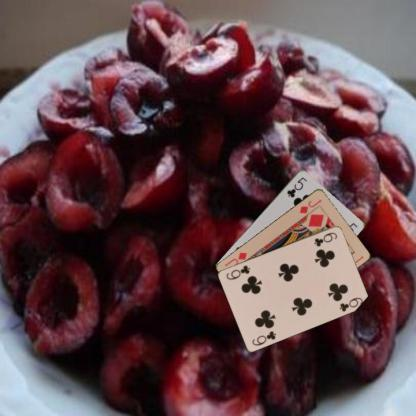5c: (284, 174, 309, 199)
6c: (250, 328, 277, 347), (312, 229, 338, 248)
Jd: (297, 197, 323, 214)
